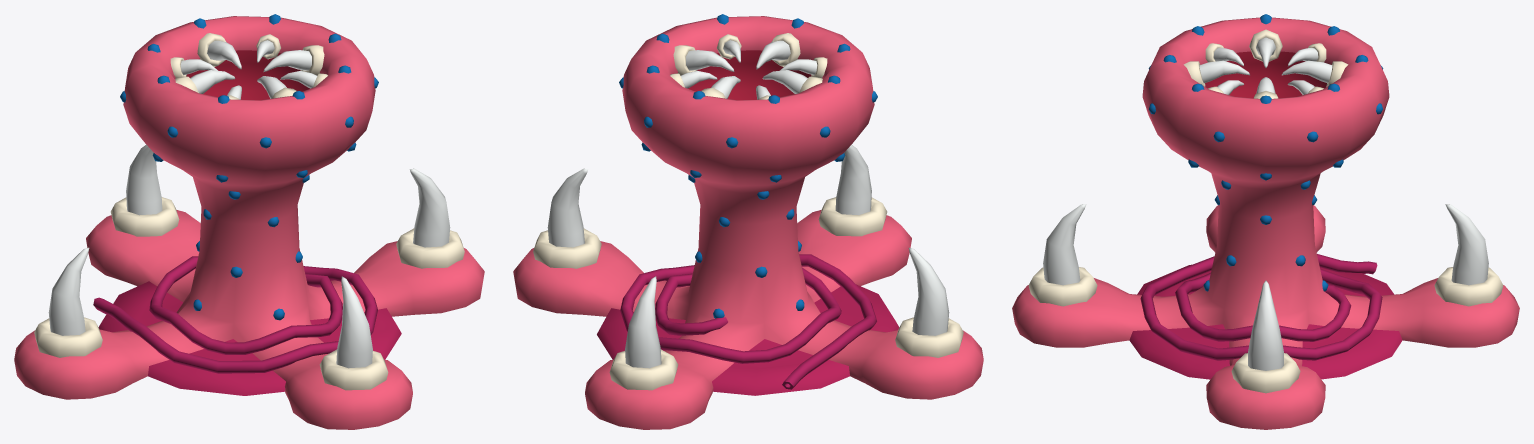
File: Plant_7_pink.fbx
3 renders of one model, left to right at view 1: azimuth 30°, elevation 25°; view 2: azimuth 150°, elevation 25°; view 3: azimuth 270°, elevation 25°, orthographic. The views are drawn at different scales.
Parts seen in each view (by area): view 1: Plant_7_pink; view 2: Plant_7_pink; view 3: Plant_7_pink.
Part boxes in pixels (<box>): Plant_7_pink: <box>14,14,484,429</box>; Plant_7_pink: <box>513,14,983,429</box>; Plant_7_pink: <box>1012,14,1519,429</box>.
Size of the model in its own units: 4.45 by 2.6 by 4.45.
